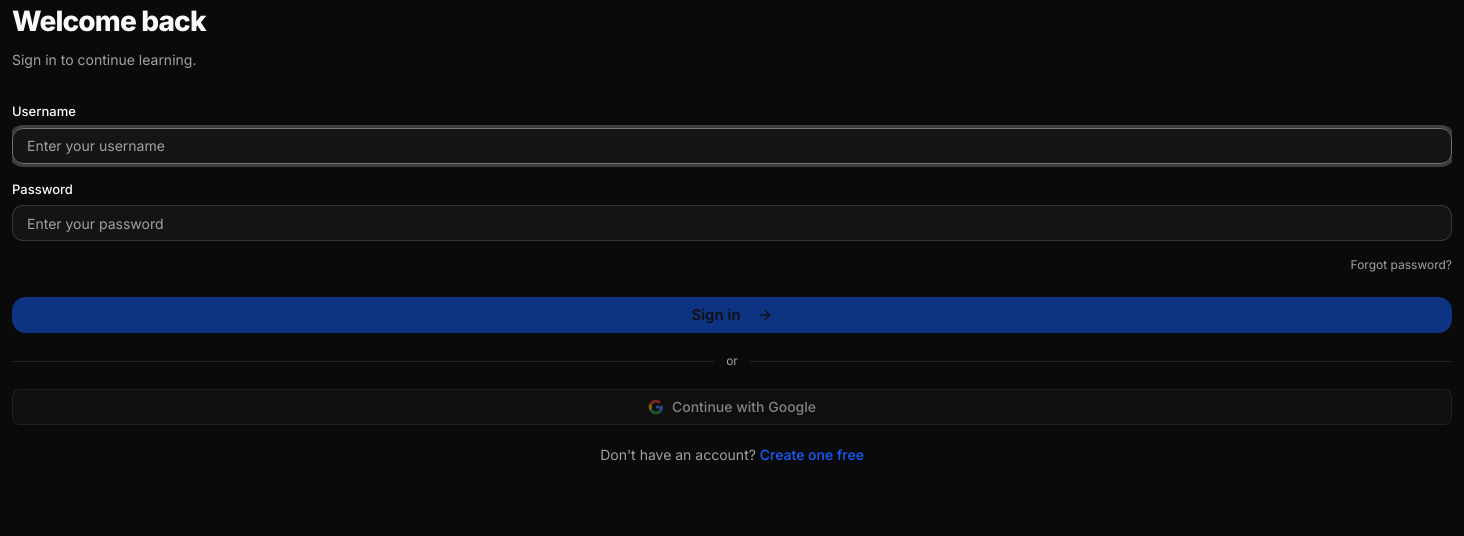
LoginForm › shows error message on failed submit
Type "testuser" into the field labelled "Username" at (732,146), box [12,128,1452,164]
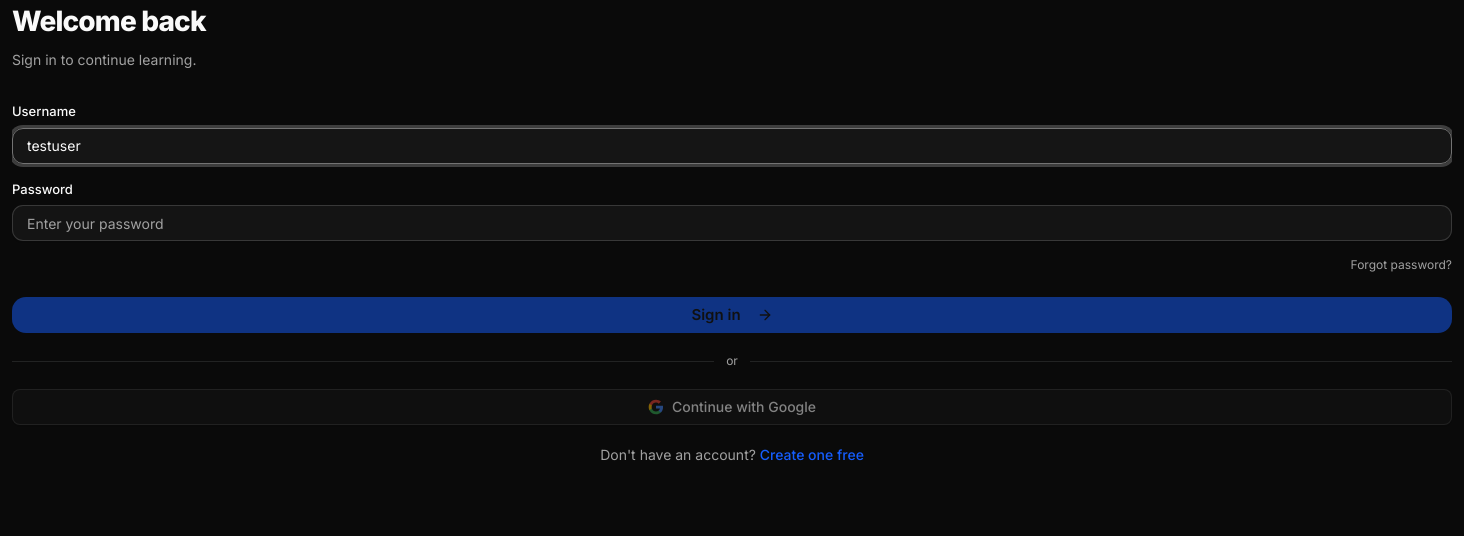
Type "wrong" into the password field labelled "Password" at (732,223), box [12,205,1452,241]
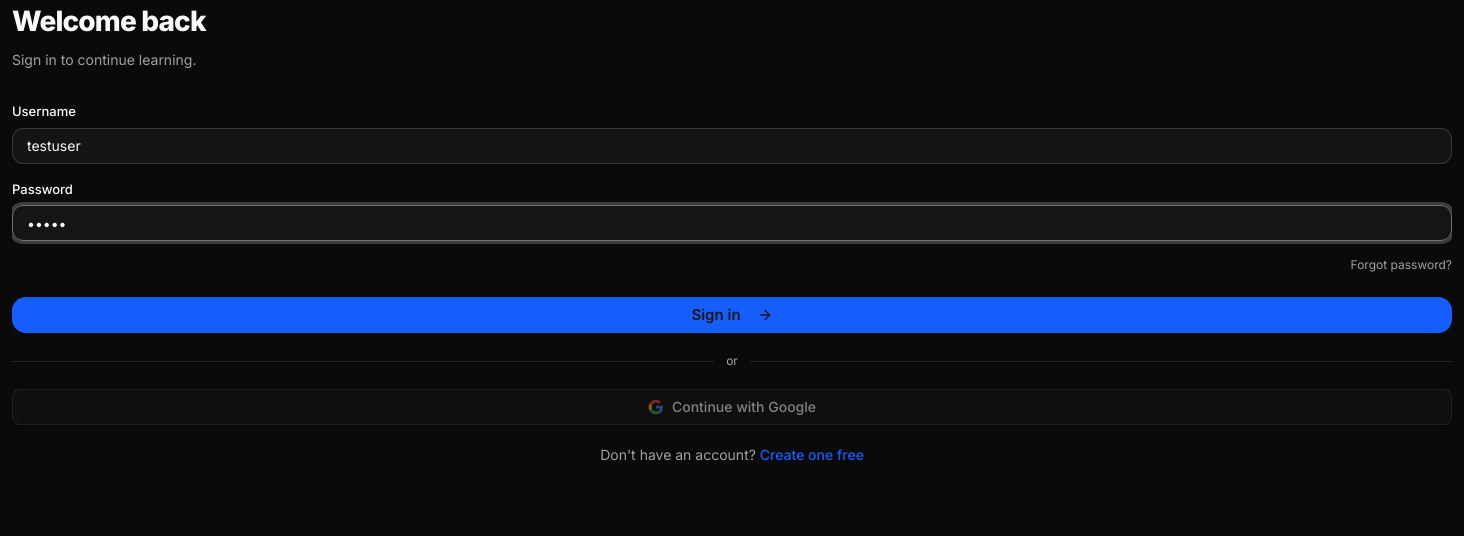
Click the button "Sign in" at (732,315), box [12,297,1452,333]
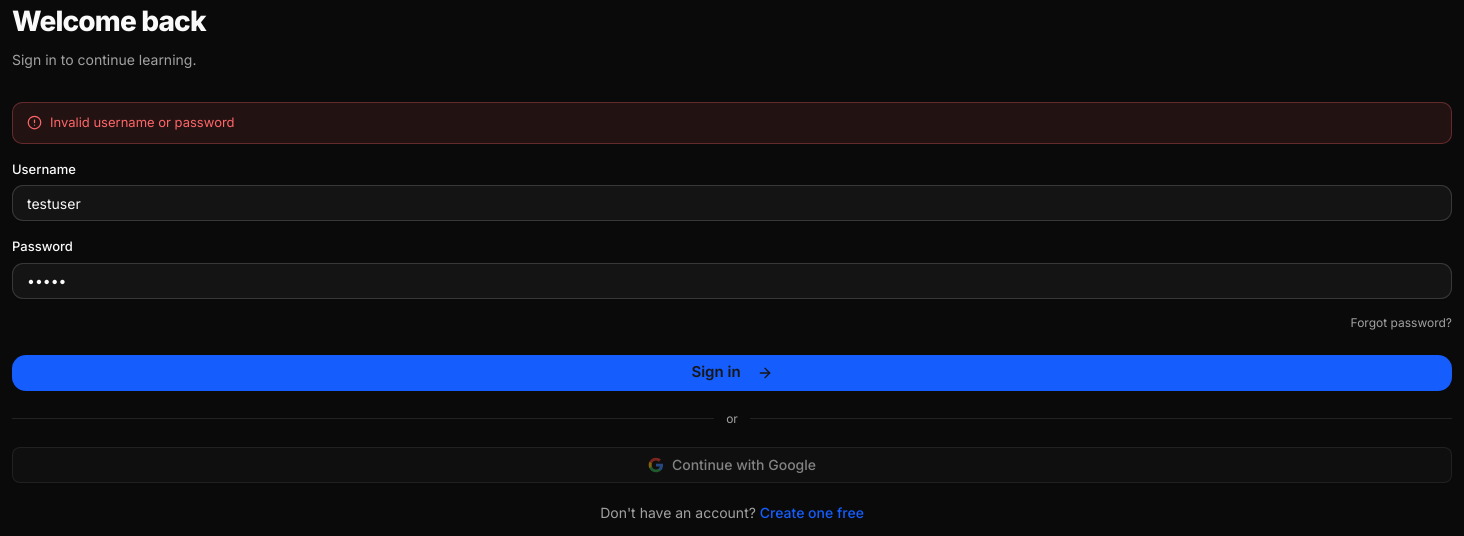
Now the text "Invalid username or password" is shown, box [12,102,1452,144]
